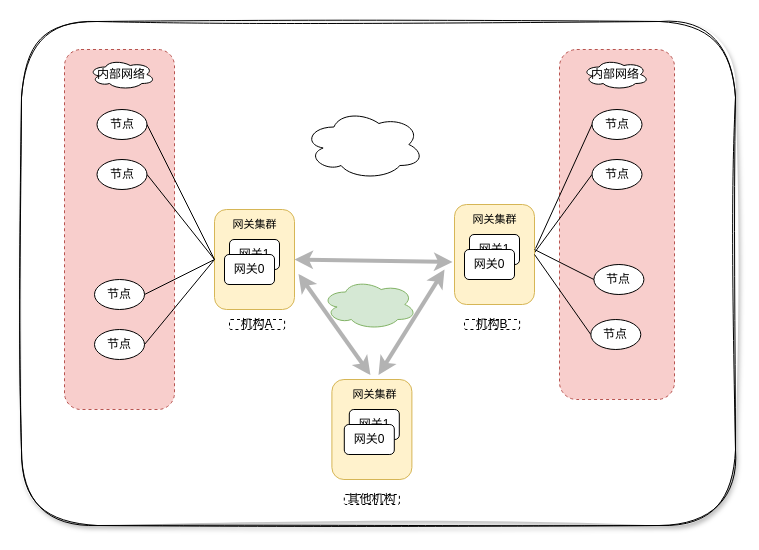
Image size: 759x550. Some labels were removed from this diagram. Here are the shapes that lost their labels. From the top down, the centre of each, then its label:
point (363, 144): 群组 区块链共识 逻辑网络
point (369, 304): P2P网络
